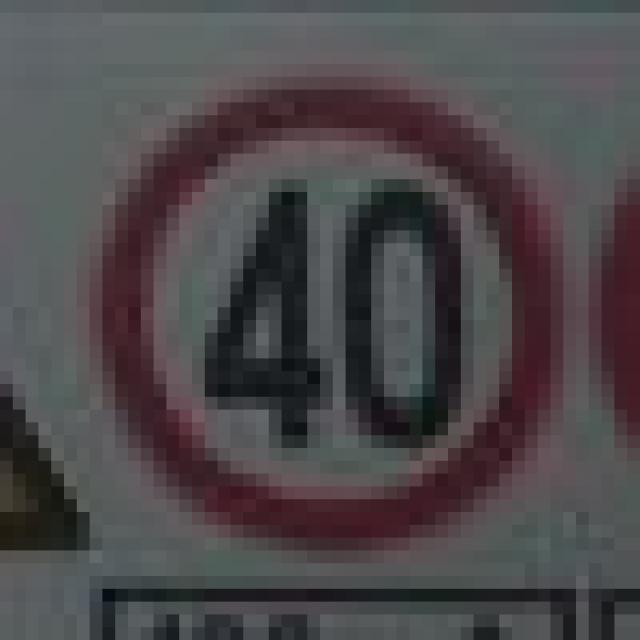SPEED_LIMIT_40: (77, 64, 563, 538)
